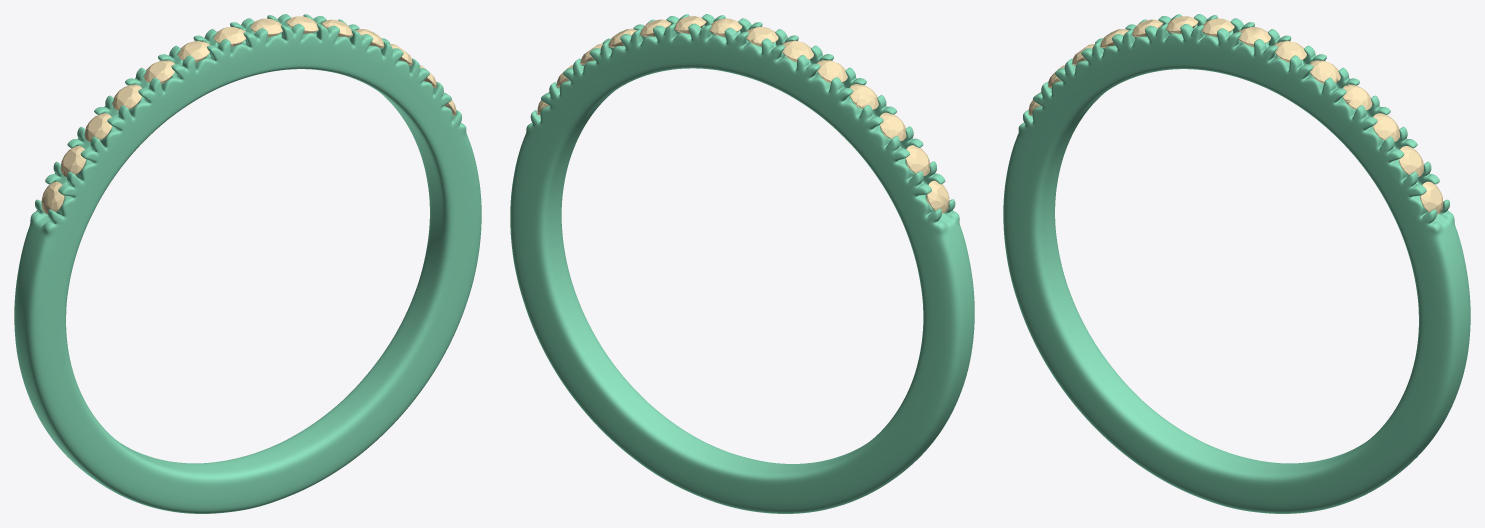
3 renders of one model, left to right at view 1: azimuth 30°, elevation 25°; view 2: azimuth 150°, elevation 25°; view 3: azimuth 330°, elevation 25°, orthographic.
Parts seen in each view (by area): view 1: Metal02, Diamond_Round.007, Diamond_Round.010, Diamond_Round.009, Diamond_Round.008; view 2: Metal02, Diamond_Round.007, Diamond_Round.009, Diamond_Round.008, Diamond_Round.010; view 3: Metal02, Diamond_Round.003, Diamond_Round.006, Diamond_Round.004, Diamond_Round.005.
Part boxes in pixels (x1=…): Metal02: x1=14, y1=14, x2=481, y2=513; Diamond_Round.007: x1=84, y1=113, x2=111, y2=141; Diamond_Round.010: x1=112, y1=84, x2=141, y2=110; Diamond_Round.009: x1=61, y1=146, x2=85, y2=177; Diamond_Round.008: x1=41, y1=181, x2=64, y2=214; Metal02: x1=510, y1=14, x2=974, y2=513; Diamond_Round.007: x1=879, y1=112, x2=906, y2=141; Diamond_Round.009: x1=905, y1=145, x2=929, y2=176; Diamond_Round.008: x1=926, y1=180, x2=949, y2=213; Diamond_Round.010: x1=850, y1=84, x2=878, y2=109; Metal02: x1=1003, y1=14, x2=1470, y2=513; Diamond_Round.003: x1=1343, y1=84, x2=1372, y2=110; Diamond_Round.006: x1=1372, y1=113, x2=1400, y2=141; Diamond_Round.004: x1=1398, y1=146, x2=1423, y2=176; Diamond_Round.005: x1=1420, y1=181, x2=1443, y2=214.
Size of the model in its own units: 19.92 by 20.03 by 1.75.
